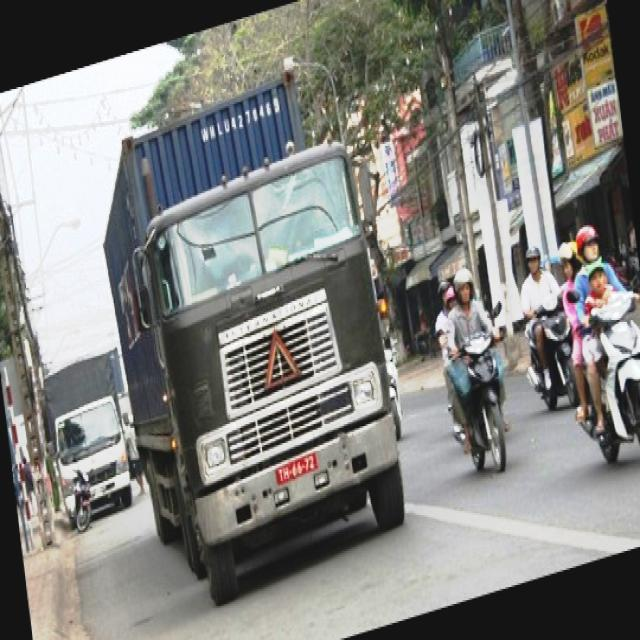license_plate: (276, 452, 320, 487)
